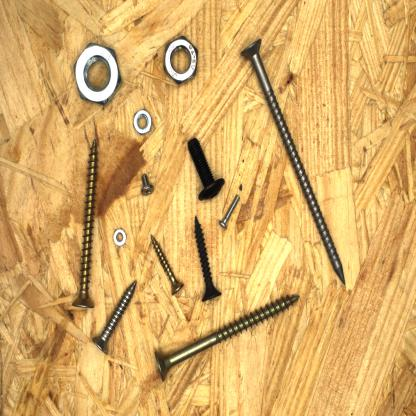screw: (238, 35, 348, 287), (151, 292, 302, 384), (70, 134, 100, 314), (90, 275, 141, 358), (182, 133, 228, 206), (190, 211, 224, 306), (148, 231, 186, 300), (148, 230, 186, 298), (216, 191, 242, 232), (137, 169, 156, 200)
